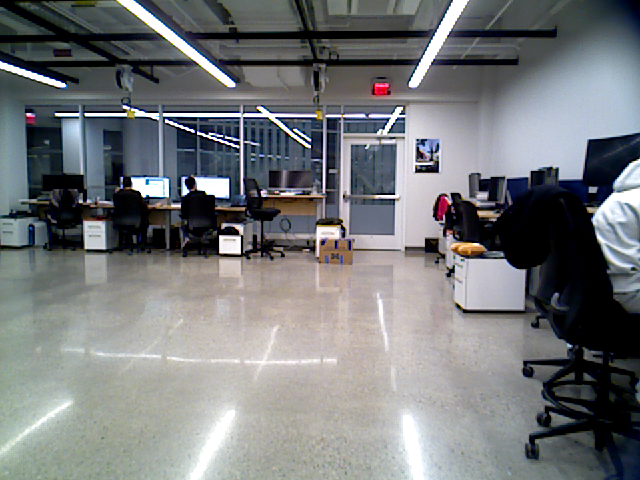painting3: (412, 139, 440, 174)
